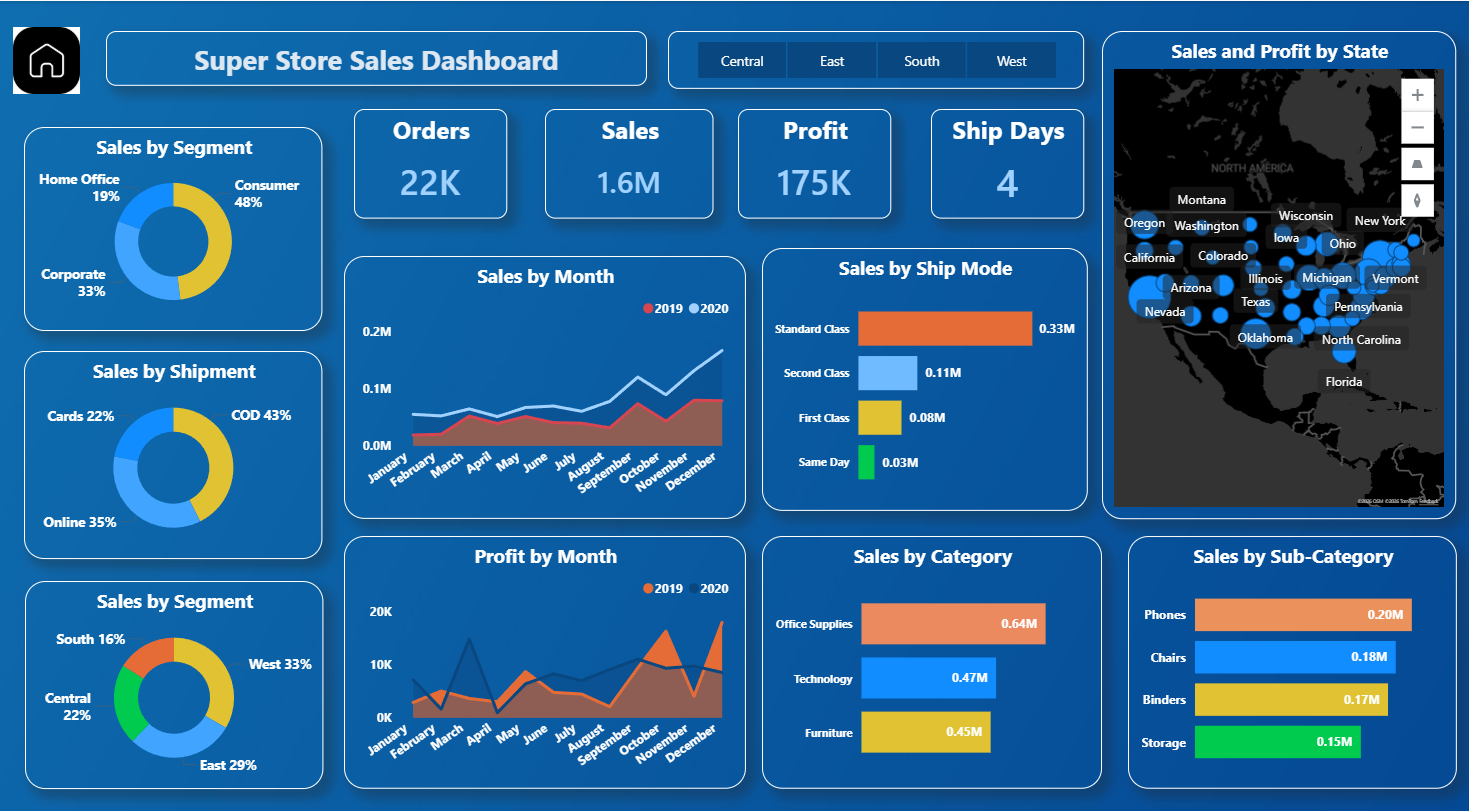

What the dashboard file says about the page in this screenshot:
{"tool":"powerbi","page":{"name":"Overview","canvas":[1450,800],"ordinal":0},"visuals":[{"type":"clusteredBarChart","title":"Sales by Category","fields":{"Category":["SuperStore_Sales_Dataset.Category"],"Y":["Sum(SuperStore_Sales_Dataset.Sales)"]},"box":[752.5,526.7,335,249],"z":0},{"type":"clusteredBarChart","title":"Sales by Sub-Category","fields":{"Category":["SuperStore_Sales_Dataset.Sub-Category"],"Y":["Sum(SuperStore_Sales_Dataset.Sales)"]},"box":[1112.8,526.7,323.9,249],"z":1000},{"type":"clusteredBarChart","title":"Sales by Ship Mode","fields":{"Category":["SuperStore_Sales_Dataset.Ship Mode"],"Y":["Sum(SuperStore_Sales_Dataset.Sales)"]},"box":[752.5,243.5,320.6,258.9],"z":2000},{"type":"areaChart","title":"Sales by Month","fields":{"Y":["Sum(SuperStore_Sales_Dataset.Sales)"],"Category":["SuperStore_Sales_Dataset.Order Date.Variation.Date Hierarchy.Month","SuperStore_Sales_Dataset.Order Date.Variation.Date Hierarchy.Day"],"Series":["SuperStore_Sales_Dataset.Order Date.Variation.Date Hierarchy.Year"]},"box":[340.5,251.2,395.6,258.9],"z":3000},{"type":"areaChart","title":"Profit by Month","fields":{"Category":["SuperStore_Sales_Dataset.Order Date.Variation.Date Hierarchy.Month","SuperStore_Sales_Dataset.Order Date.Variation.Date Hierarchy.Day"],"Series":["SuperStore_Sales_Dataset.Order Date.Variation.Date Hierarchy.Year"],"Y":["Sum(SuperStore_Sales_Dataset.Profit)"]},"box":[340.5,526.7,395.6,249],"z":4000},{"type":"azureMap","title":"Sales and Profit by State","fields":{"Category":["SuperStore_Sales_Dataset.State"],"Size":["Sum(SuperStore_Sales_Dataset.Sales)"]},"box":[1087.8,29.4,348.6,481.1],"z":5000},{"type":"donutChart","title":"Sales by Segment","fields":{"Category":["SuperStore_Sales_Dataset.Segment"],"Y":["Sum(SuperStore_Sales_Dataset.Sales)"]},"box":[25.3,124.5,294.2,200.5],"z":6000},{"type":"donutChart","title":"Sales by Shipment","fields":{"Y":["Sum(SuperStore_Sales_Dataset.Sales)"],"Category":["SuperStore_Sales_Dataset.Payment Mode"]},"box":[25.3,344.9,294.2,204.9],"z":7000},{"type":"slicer","fields":{"Values":["SuperStore_Sales_Dataset.Region"]},"box":[660,29.7,409.9,57.3],"z":8000},{"type":"textbox","box":[106.4,29.4,533.1,54.3],"z":9000},{"type":"cardVisual","title":"Sales","fields":{"Data":["Sum(SuperStore_Sales_Dataset.Sales)"]},"box":[538.8,106.9,166.4,108],"z":10000},{"type":"cardVisual","title":"Orders","fields":{"Data":["Sum(SuperStore_Sales_Dataset.Quantity)"]},"box":[350.7,106.4,150.7,108.4],"z":11000},{"type":"cardVisual","title":"Profit","fields":{"Data":["Sum(SuperStore_Sales_Dataset.Profit)"]},"box":[729.1,106.4,150.7,108.4],"z":12000},{"type":"cardVisual","title":"Ship Days","fields":{"Data":["Avg(SuperStore_Sales_Dataset.AvgDelivery)"]},"box":[919.2,106.4,150.7,108.4],"z":13000},{"type":"donutChart","title":"Sales by Segment","fields":{"Y":["Sum(SuperStore_Sales_Dataset.Sales)"],"Category":["SuperStore_Sales_Dataset.Region"]},"box":[26.6,571.4,293.6,204.9],"z":14000},{"type":"image","box":[13.2,25.3,70.5,66.1],"z":15000}]}

Visuals, with their boxes in screenshot pixels (x1, y1, x2, y2), scaled from the page's 1450x800 canvas onto the 1469x811 screenshot:
"Sales by Category" clusteredBarChart: BBox(762, 534, 1102, 786)
"Sales by Sub-Category" clusteredBarChart: BBox(1127, 534, 1456, 786)
"Sales by Ship Mode" clusteredBarChart: BBox(762, 247, 1087, 509)
"Sales by Month" areaChart: BBox(345, 255, 746, 517)
"Profit by Month" areaChart: BBox(345, 534, 746, 786)
"Sales and Profit by State" azureMap: BBox(1102, 30, 1455, 518)
"Sales by Segment" donutChart: BBox(26, 126, 324, 329)
"Sales by Shipment" donutChart: BBox(26, 350, 324, 557)
slicer - SuperStore_Sales_Dataset.Region: BBox(669, 30, 1084, 88)
textbox: BBox(108, 30, 648, 85)
"Sales" cardVisual: BBox(546, 108, 714, 218)
"Orders" cardVisual: BBox(355, 108, 508, 218)
"Profit" cardVisual: BBox(739, 108, 891, 218)
"Ship Days" cardVisual: BBox(931, 108, 1084, 218)
"Sales by Segment" donutChart: BBox(27, 579, 324, 787)
image: BBox(13, 26, 85, 93)
